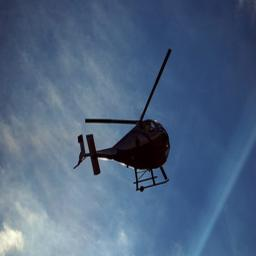helicopter: (75, 50, 176, 193)
